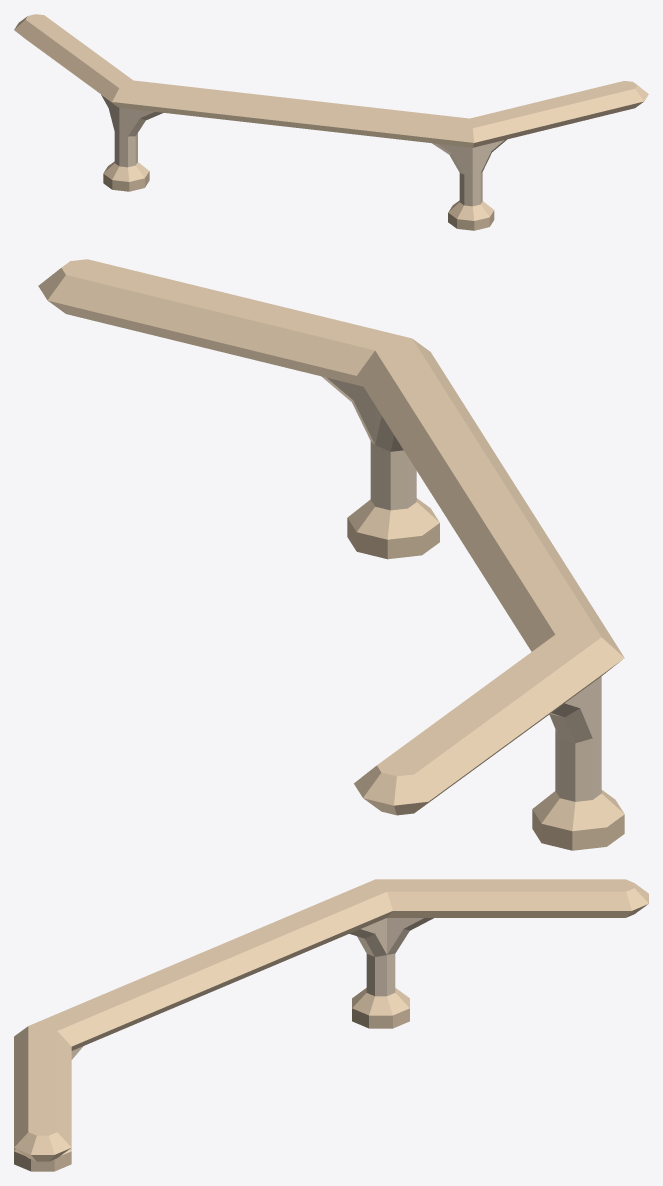
File: opengameart-modular-temple-3d-models-2_6.glb
3 views of the same model, one above another, from view 1: azimuth 30°, elevation 25°; view 2: azimuth 150°, elevation 25°; view 3: azimuth 270°, elevation 25° (orthographic). The views are drawn at different scales.
Parts seen in each view (by area): view 1: object1; view 2: object1; view 3: object1.
Part boxes in pixels (<box>): object1: <box>14,14,648,230</box>; object1: <box>38,259,624,850</box>; object1: <box>14,879,648,1171</box>.
Size of the model in its own units: 2.2 by 0.5 by 2.2.
